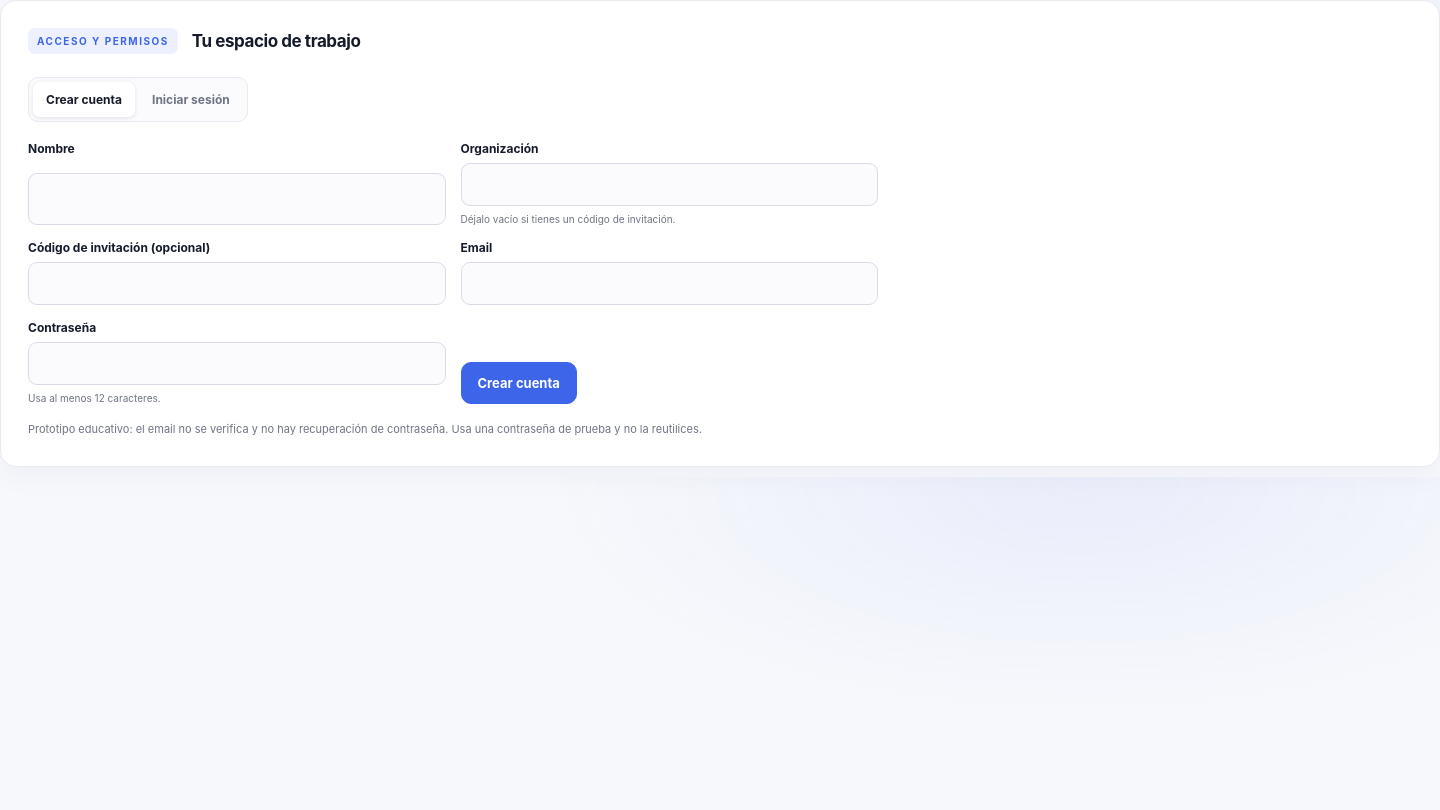
Scenario: AuthPanel › logs in and clears the authenticated state on logout
The width and height of the screenshot is (1440, 810).
Click the button "Iniciar sesión" at [191, 100], box [139,82,243,117]
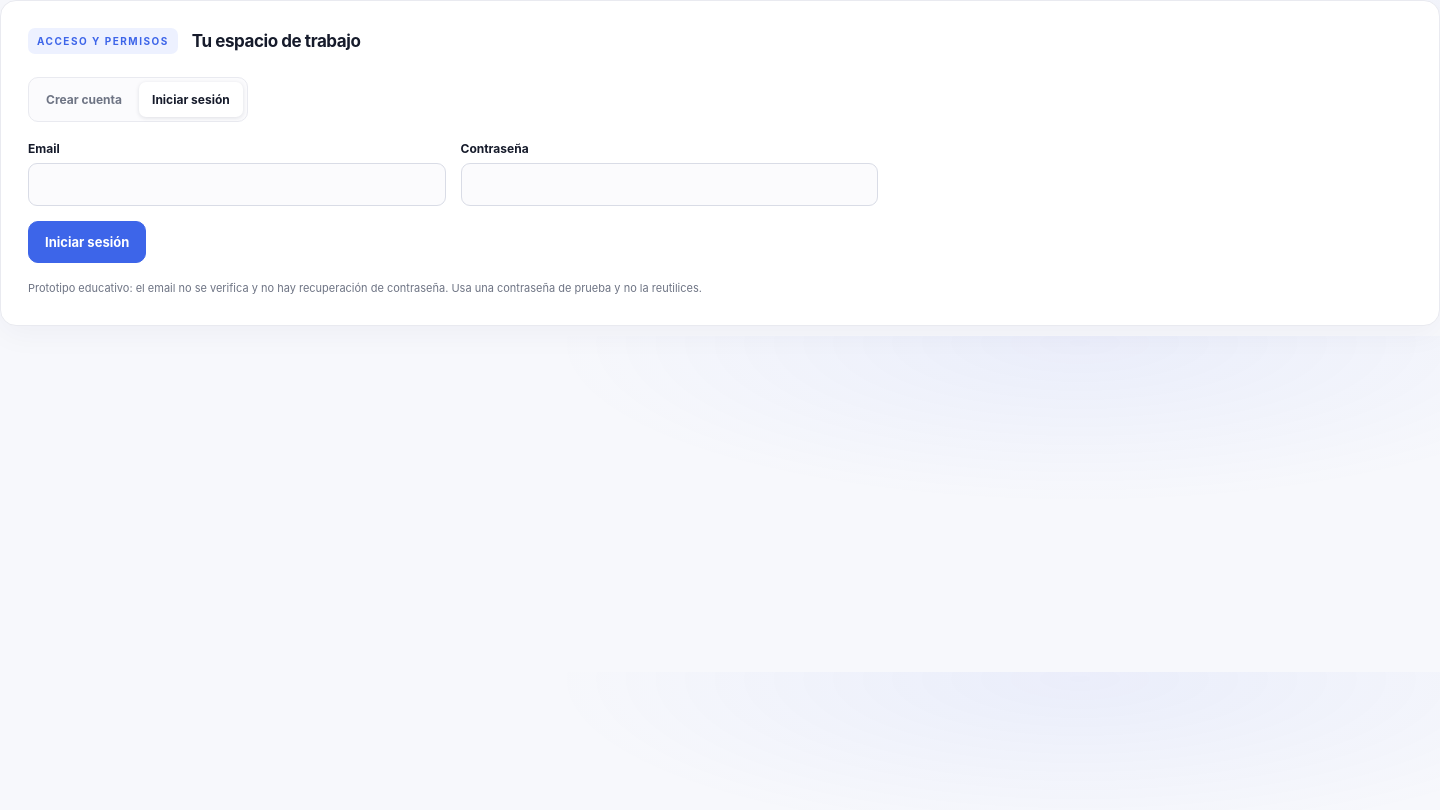
Type "owner@example.com" into the field labelled "Email" at [237, 184], box [28,163,446,206]
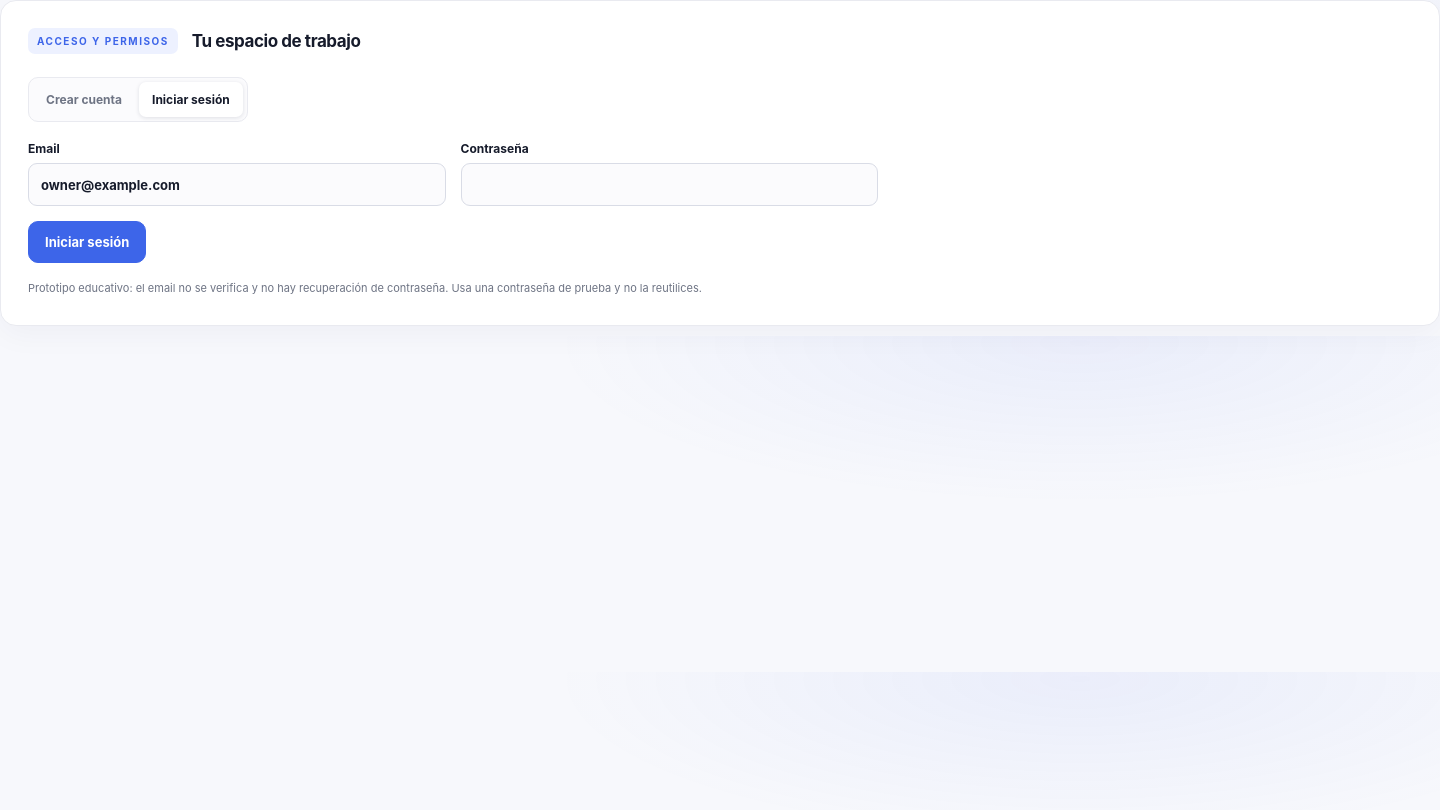
Type "correct-horse-battery-staple" into the password field labelled "Contraseña" at [669, 184], box [460,163,878,206]
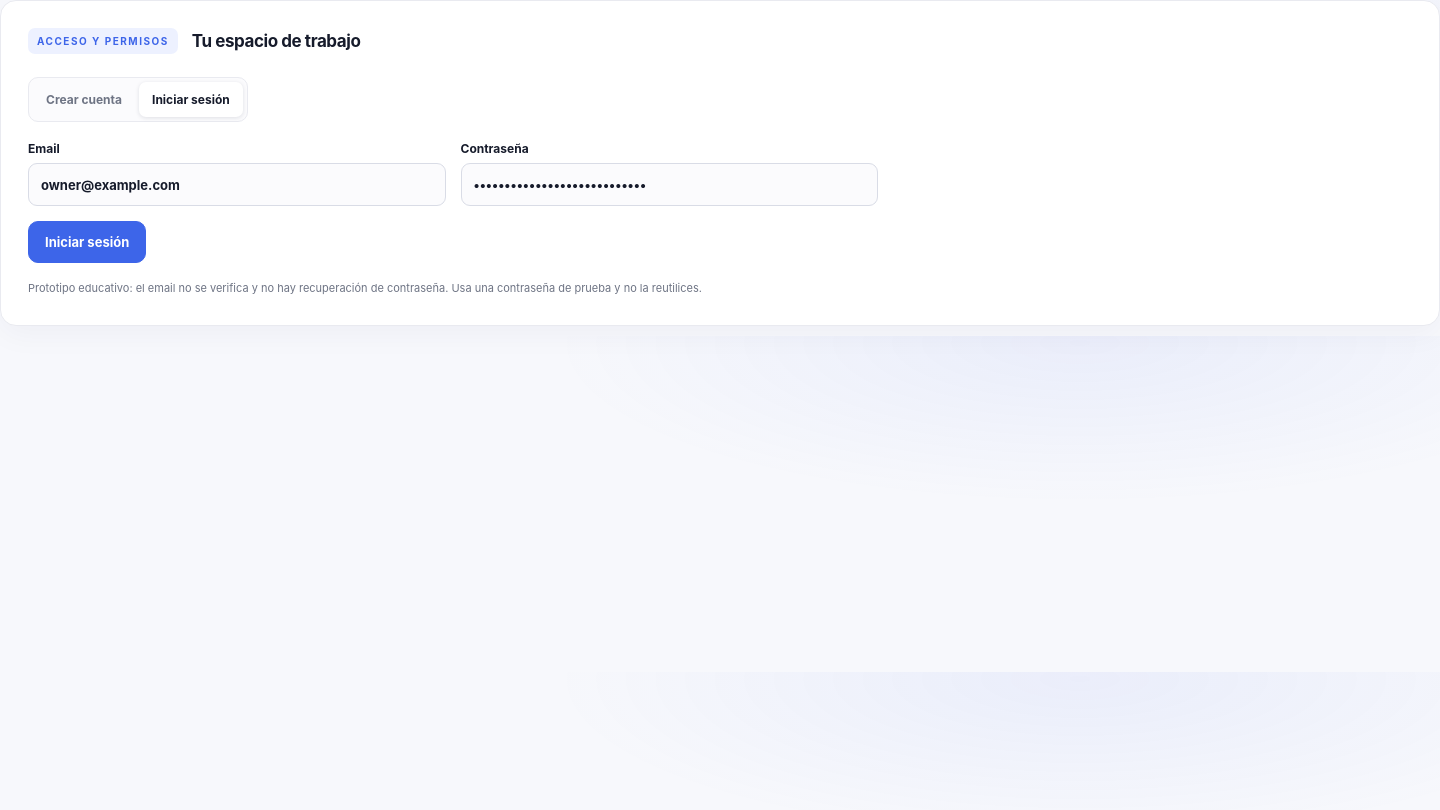
Click the 2nd button "Iniciar sesión" at [87, 242], box [28,221,146,263]
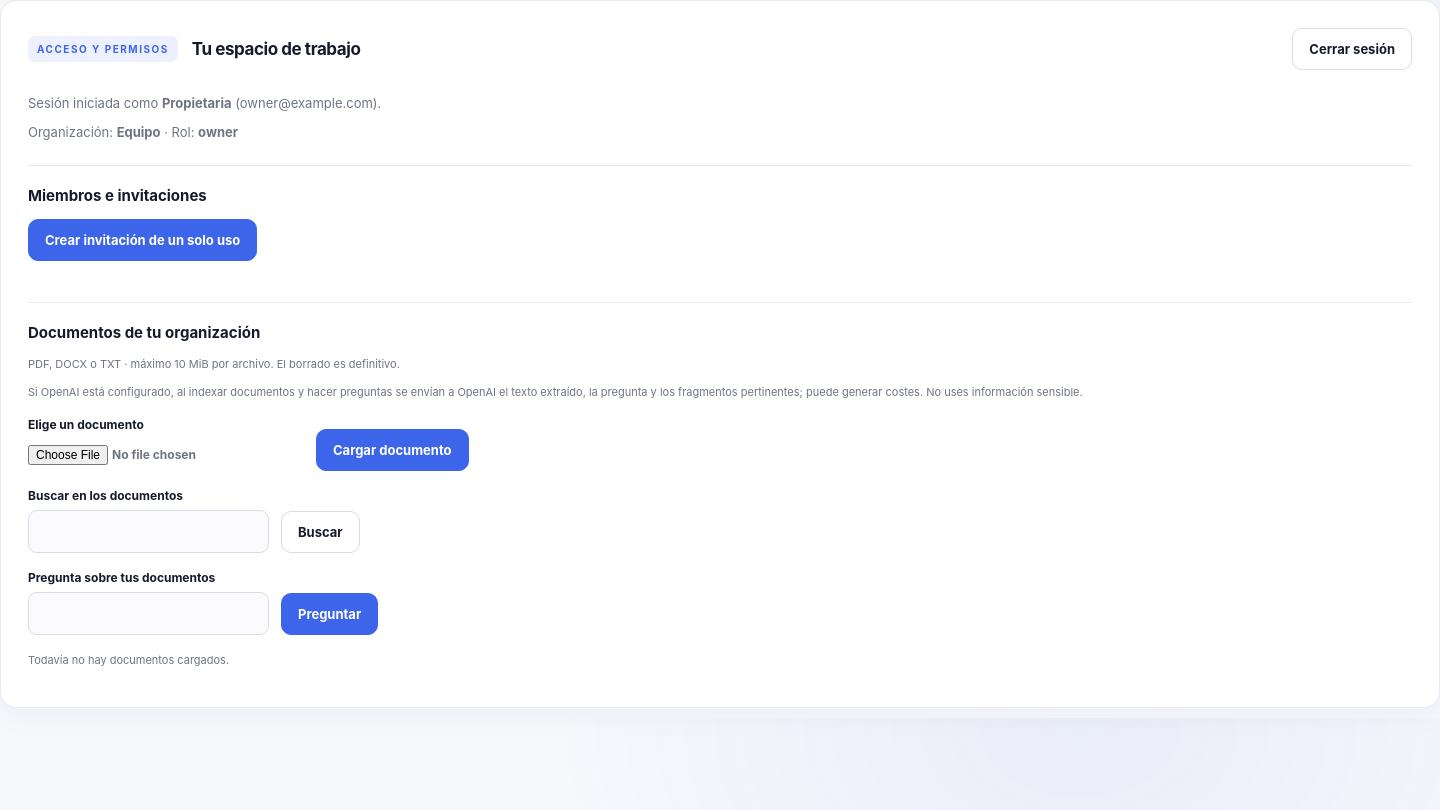
Now the text "Sesión iniciada como Propietaria (owner@example.com)." is shown, box [28,95,381,111]
Click the button "Cerrar sesión" at [1352, 49], box [1292,28,1412,70]
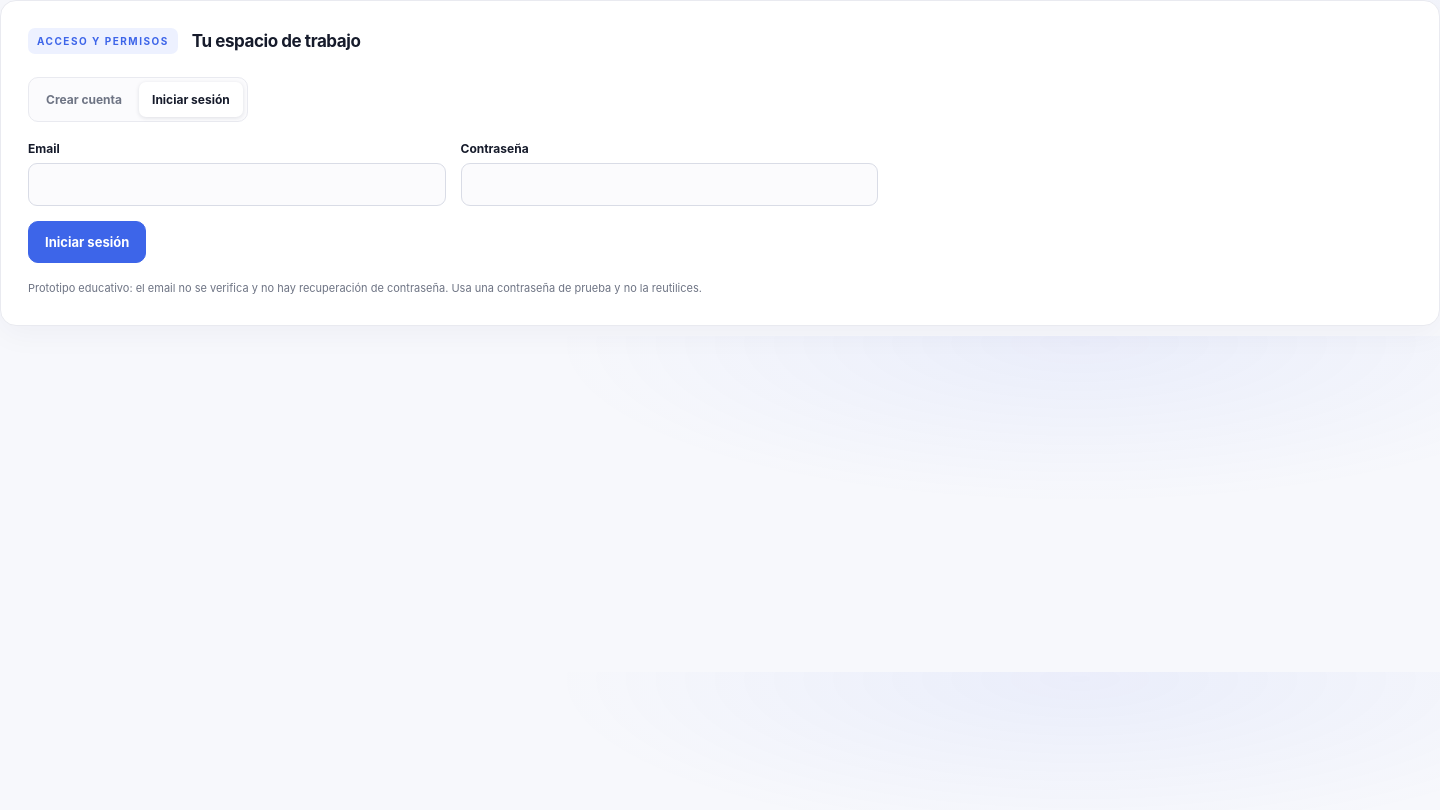
Now the button "Crear cuenta" is shown, box [33,82,135,117]
